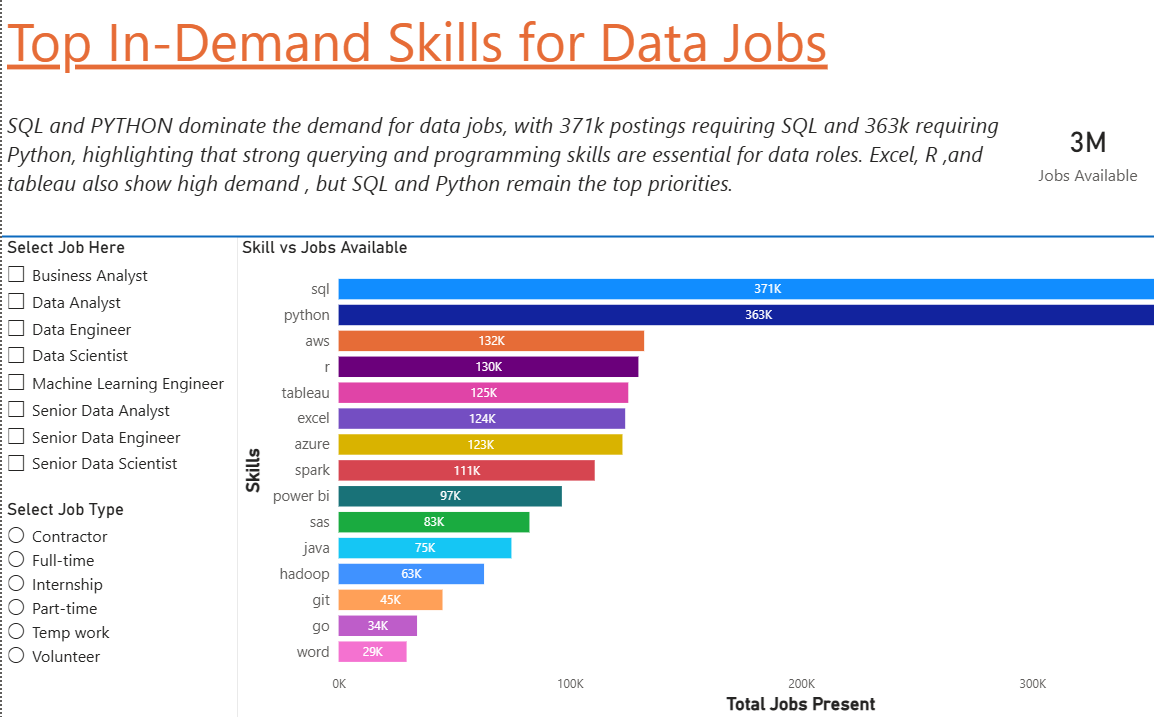

The dashboard page shown, as its layout file describes it:
{"tool":"powerbi","page":{"name":"demanding data skills","canvas":[1280,720],"ordinal":1},"visuals":[{"type":"barChart","title":"Skill vs Jobs Available ","fields":{"Category":["public bi_job_skill_demand.skills"],"Y":["Sum(public bi_job_skill_demand.demand_count)"],"Series":["public bi_job_skill_demand.skills"]},"box":[234.6,237.4,1045.6,483],"z":0},{"type":"listSlicer","fields":{"Values":["public bi_job_skill_demand.job_title_short"]},"box":[0,237.4,234.6,244.3],"z":1000},{"type":"listSlicer","fields":{"Values":["public bi_job_skill_demand.job_schedule_type"]},"box":[0,499.5,234.6,220.9],"z":2000},{"type":"card","fields":{"Values":["Sum(public bi_job_skill_demand.demand_count)"]},"box":[1016.2,82.5,140,138.8],"z":3000},{"type":"textbox","box":[0,0,1016.2,221.2],"z":4000},{"type":"shape","box":[0,193.8,1280,87.5],"z":5000}]}

Visuals, with their boxes on the page's 1280x720 design canvas (x1, y1, x2, y2). These are canvas units, not pixel positions in the 1154x718 screenshot, which may show the page scaled, cropped or inside an application window:
"Skill vs Jobs Available " barChart: (235, 237, 1280, 720)
listSlicer - public bi_job_skill_demand.job_title_short: (0, 237, 235, 482)
listSlicer - public bi_job_skill_demand.job_schedule_type: (0, 500, 235, 720)
card - Sum(public bi_job_skill_demand.demand_count): (1016, 82, 1156, 221)
textbox: (0, 0, 1016, 221)
shape: (0, 194, 1280, 281)
